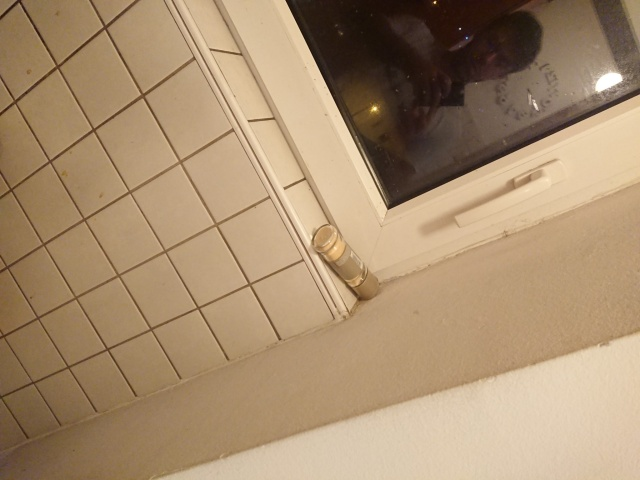Kotanyi Garlic Granules 70g: (309, 222, 382, 302)
